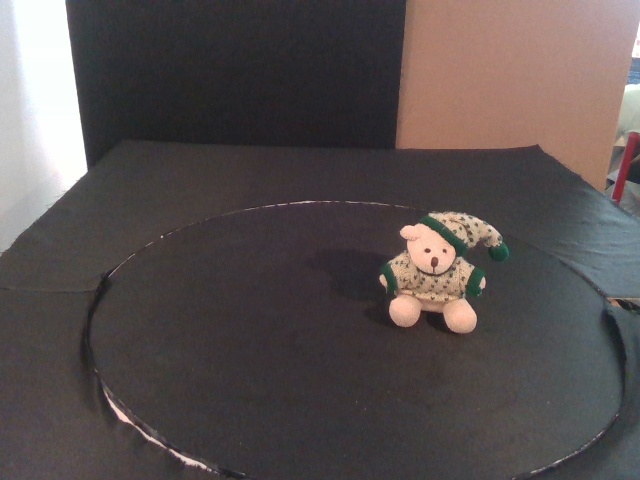teddy_bear: (379, 211, 509, 335)
